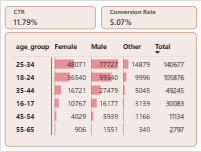

This screenshot's page, from the dashboard's own definition file:
{"tool":"powerbi","page":{"name":"Demographic Tooltip","canvas":[400,300],"ordinal":5},"visuals":[{"type":"pivotTable","fields":{"Columns":["Users.user_gender"],"Rows":["Users.age_group"],"Values":["Measures Table.Total Impressions"]},"box":[8,63,384,229],"z":0},{"type":"cardVisual","fields":{"Data":["Measures Table.CTR"]},"box":[8,9,182,46],"z":1000},{"type":"cardVisual","fields":{"Data":["Measures Table.Conversion Rate"]},"box":[200,9,192,46],"z":2000}]}

Visuals, with their boxes in screenshot pixels (x1, y1, x2, y2), scaled from the page's 400x300 canvas onto the 201x152 screenshot:
pivotTable - Users.user_gender x Users.age_group: bbox=[4, 32, 197, 148]
cardVisual - Measures Table.CTR: bbox=[4, 5, 95, 28]
cardVisual - Measures Table.Conversion Rate: bbox=[100, 5, 197, 28]
